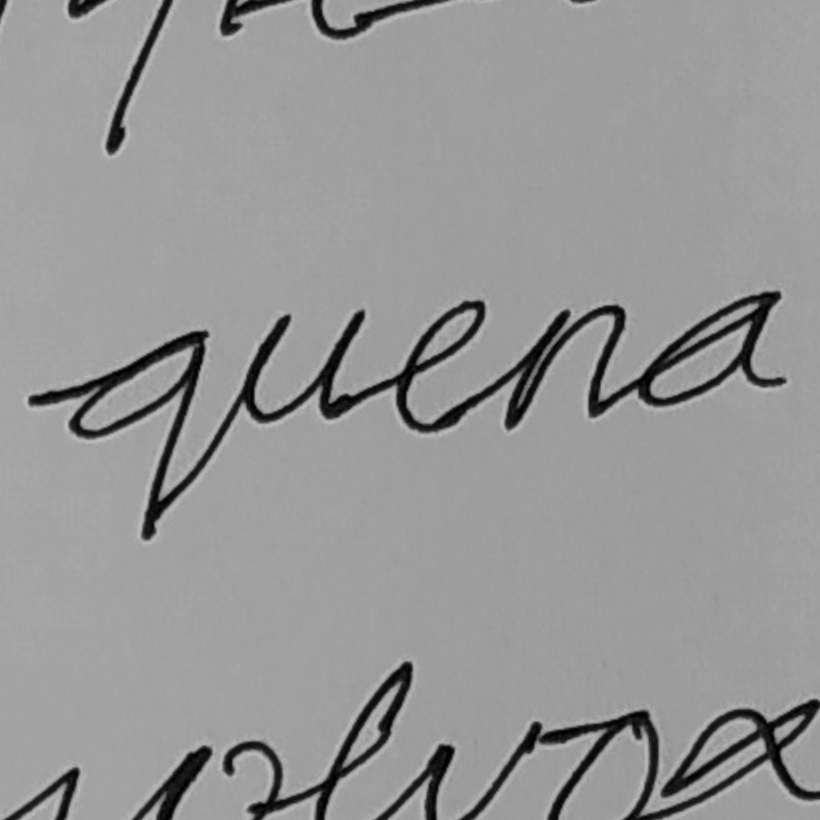a: (631, 286, 789, 409)
e: (389, 296, 488, 435)
n: (500, 299, 628, 432)
q: (65, 325, 215, 548)
u: (237, 303, 370, 426)
